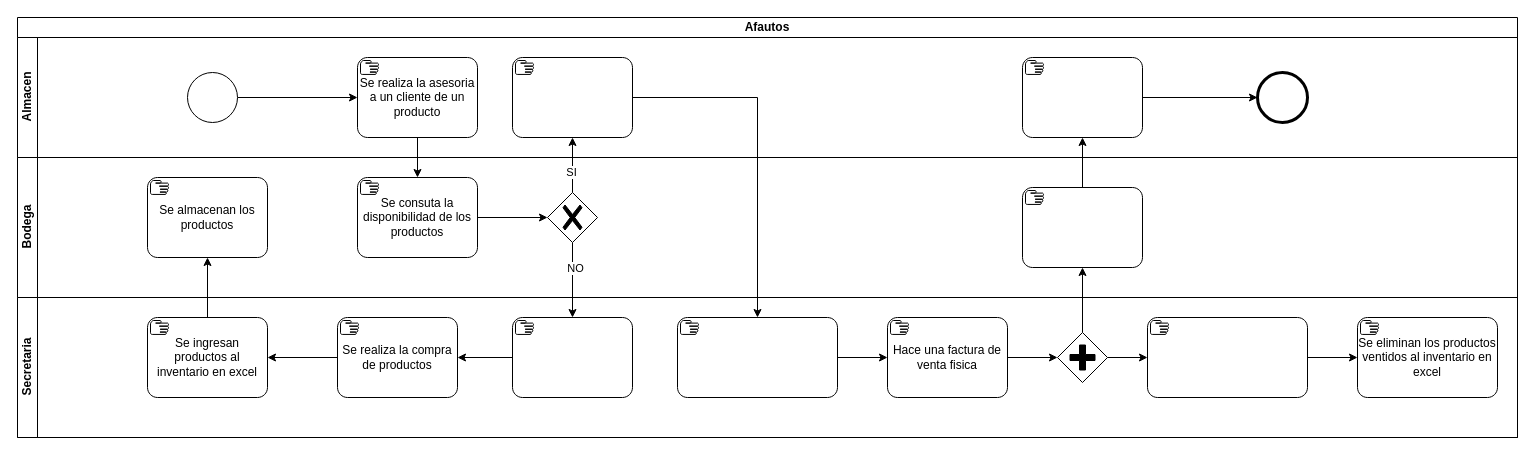
The diagram is 1535 pixels wide and 455 high, and some of its shapes have lost their labels. Each missing label, with the centre of its shape:
"Consulta con el provedor de los productos" belongs at (572,357).
"Se despachan los productos" belongs at (1082,227).
"Se entregan los productos al cliente" belongs at (1082,97).
"Se lleva a cabo el registro de clientes en un sistema manual" belongs at (757,357).
"Se realiza la venta de un producto" belongs at (572,97).
"Se registra manualmente los detalles de la venta en libros de contabilidad" belongs at (1227,357).
